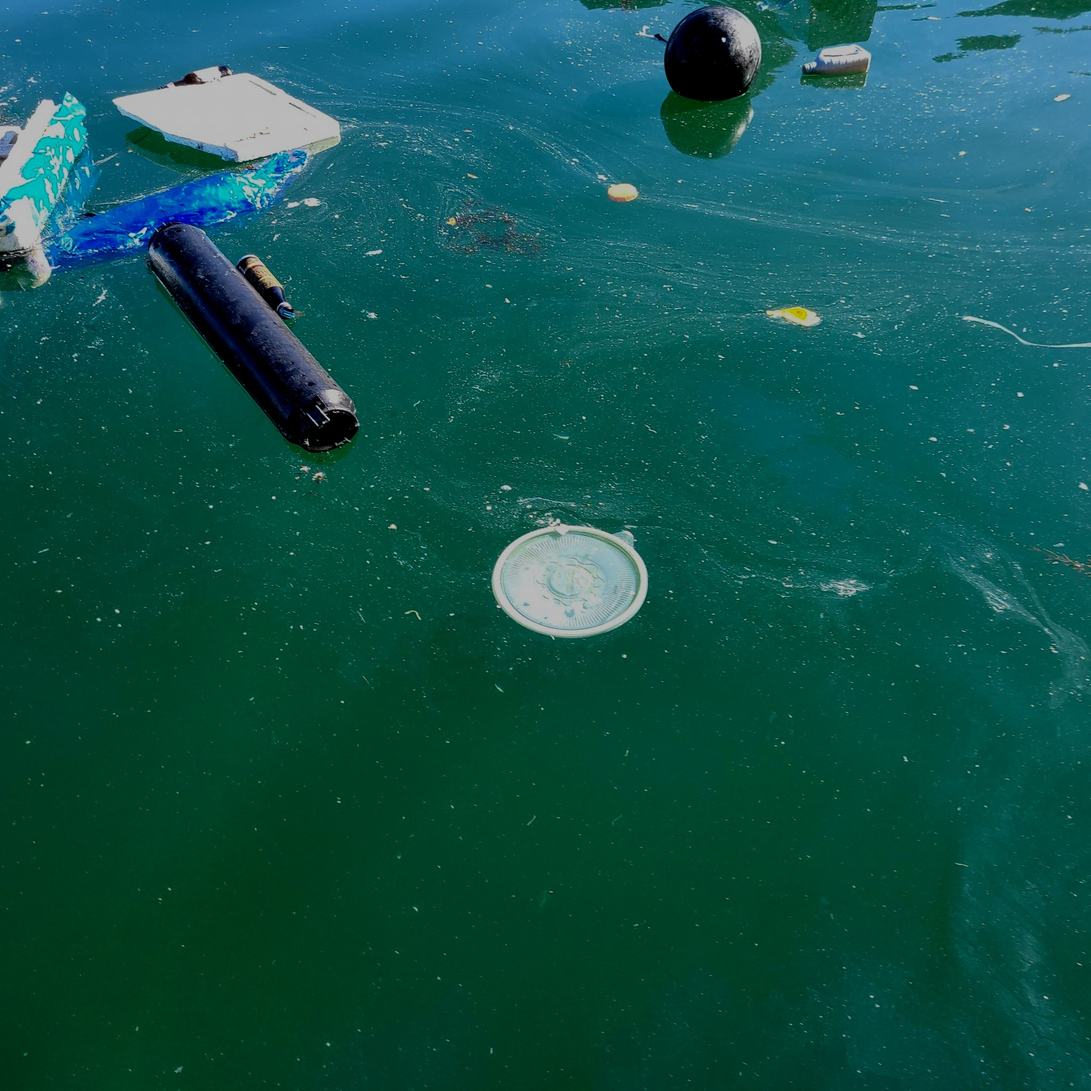sampah_terapung: (147, 222, 360, 454), (52, 150, 308, 256), (112, 74, 341, 163), (1, 91, 87, 255), (665, 6, 762, 101), (236, 256, 294, 320), (803, 43, 871, 75), (156, 67, 233, 90)
